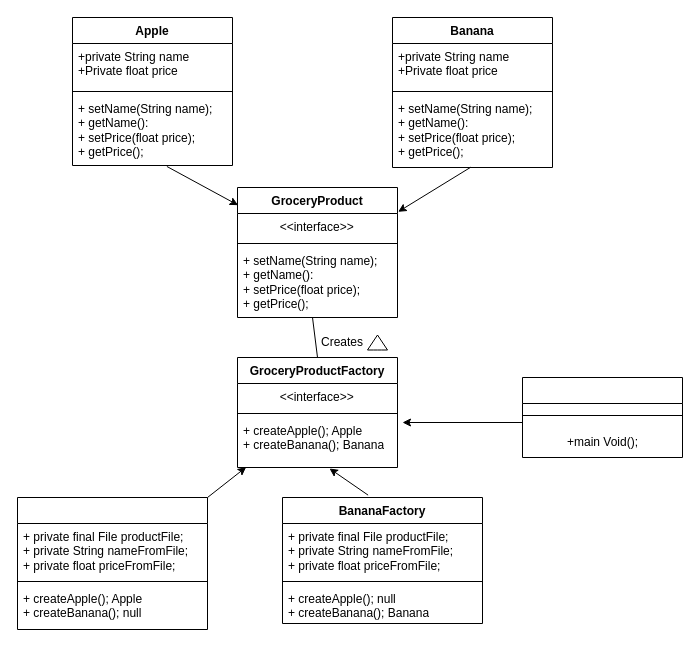
Image size: 700x650. Some labels were removed from this diagram. The box of each missing label's shape, as (x1, y1, x2, y2) in pixels:
AppleFactory: (16, 496, 208, 630)
Main Test Class: (522, 376, 682, 458)
